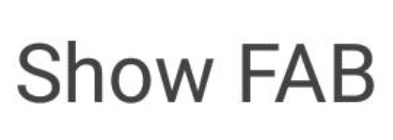TextView: (1, 1, 392, 139)
